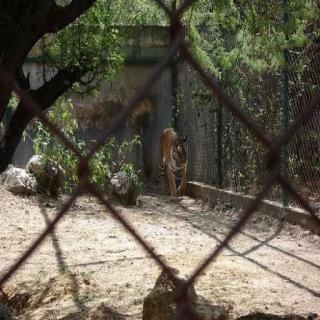Tiger: (156, 123, 198, 198)
